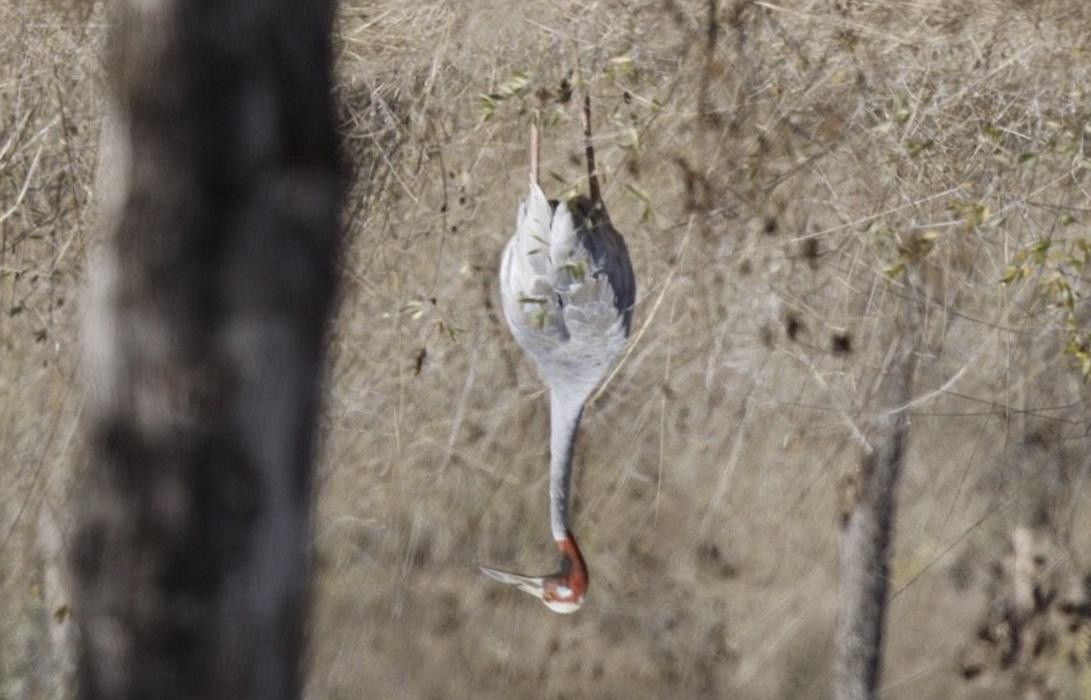crane: (479, 95, 649, 624)
